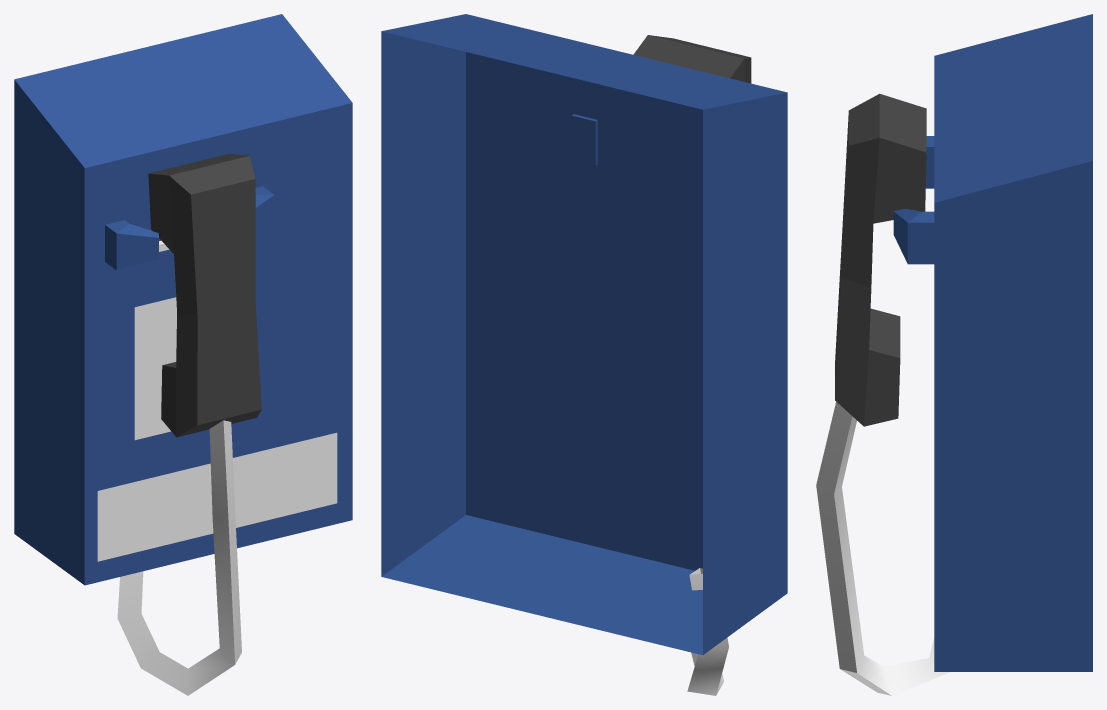
File: SM_Tel_02.fbx
3 views of the same model, side by side, from view 1: azimuth 30°, elevation 25°; view 2: azimuth 150°, elevation 25°; view 3: azimuth 270°, elevation 25° (orthographic). The views are drawn at different scales.
Parts seen in each view (by area): view 1: SM_Tel_02; view 2: SM_Tel_02; view 3: SM_Tel_02.
Boxes of the visible parts, x1,y1,x2,y2 form: SM_Tel_02: [14, 14, 352, 695]; SM_Tel_02: [381, 14, 787, 695]; SM_Tel_02: [816, 14, 1092, 695].
Size of the model in its own units: 20.63 by 41.62 by 16.41.
1 material, 1 textured.
